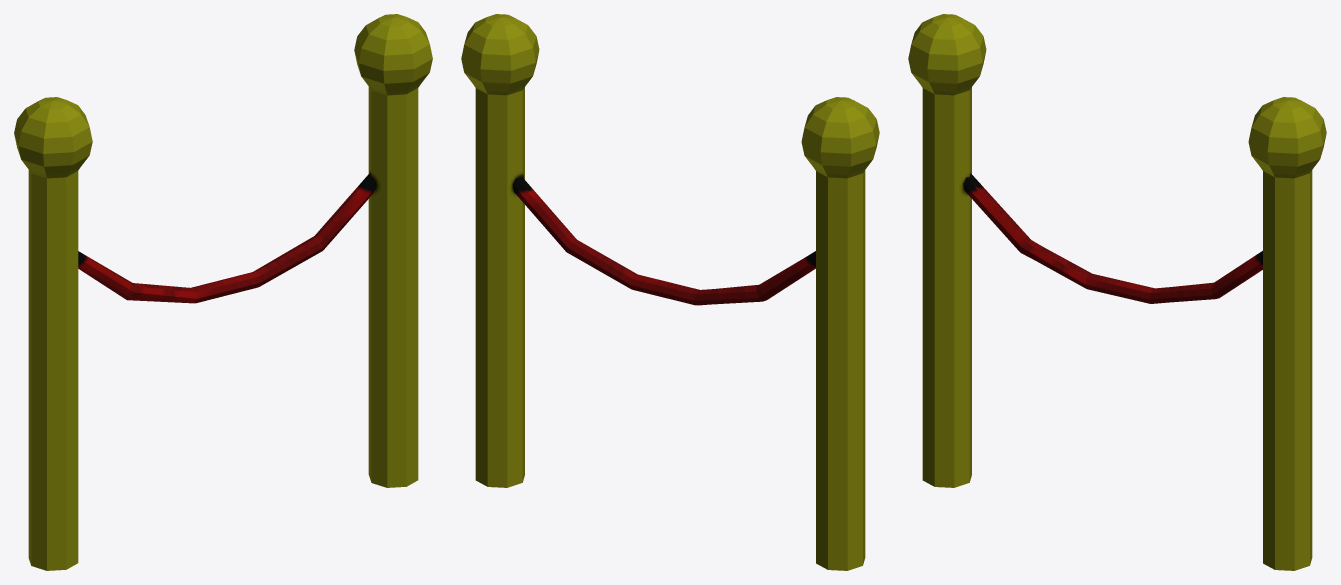
File: Railing.fbx
3 renders of one model, left to right at view 1: azimuth 30°, elevation 25°; view 2: azimuth 150°, elevation 25°; view 3: azimuth 330°, elevation 25°, orthographic.
Parts seen in each view (by area): view 1: polySurface43; view 2: polySurface43; view 3: polySurface43.
Boxes of the visible parts, left/top/right/bottom form: polySurface43: left=14, top=14, right=432, bottom=570; polySurface43: left=461, top=14, right=879, bottom=570; polySurface43: left=908, top=14, right=1326, bottom=570.
Size of the model in its own units: 273 by 292 by 46.78.
1 material, 1 textured.
